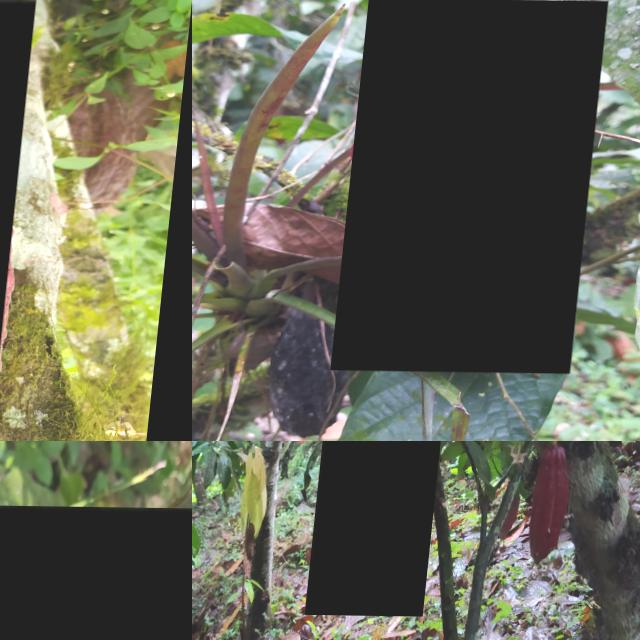Fitoftora: (316, 441, 462, 615)
Monilia: (341, 0, 610, 372), (0, 504, 192, 640)
Sana: (534, 446, 581, 564)
